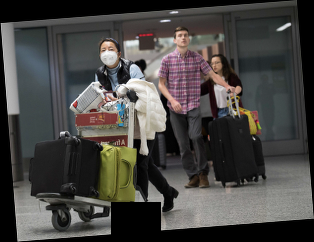with_mask: (99, 44, 118, 66)
without_mask: (174, 31, 190, 49), (209, 57, 224, 73)
